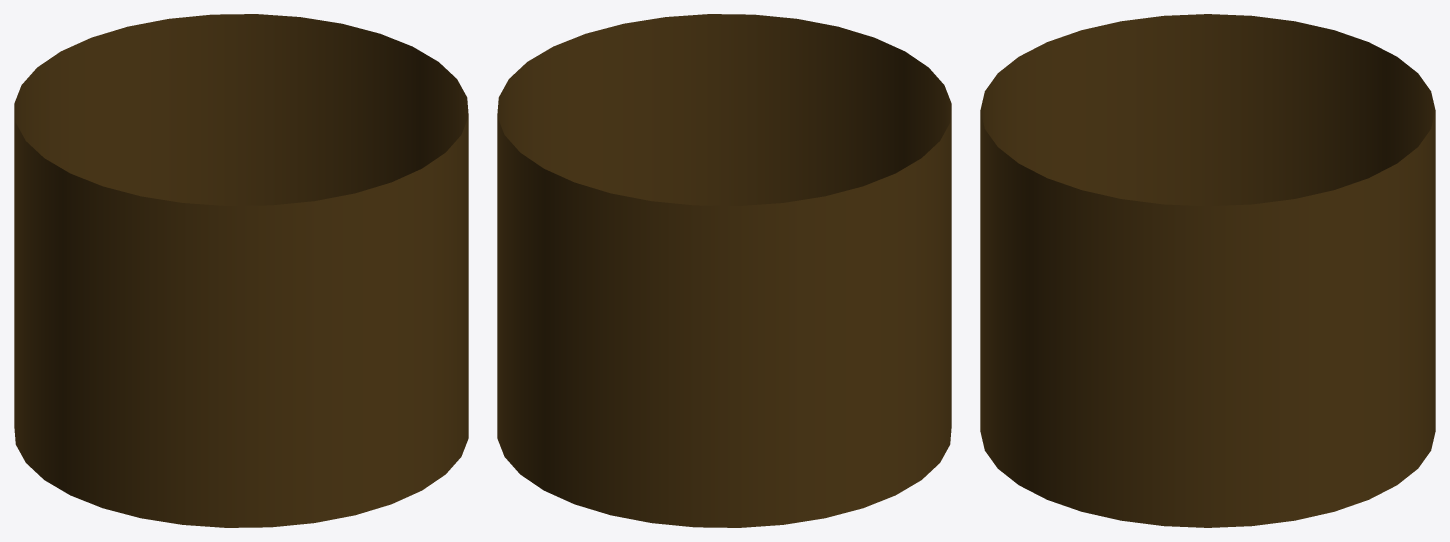
The model's file is Wall.fbx.
The picture shows the model from 3 angles, left to right: view 1: azimuth 30°, elevation 25°; view 2: azimuth 150°, elevation 25°; view 3: azimuth 270°, elevation 25°; orthographic projection.
Parts seen in each view (by area): view 1: Wall; view 2: Wall; view 3: Wall.
Boxes of the visible parts, x1,y1,x2,y2 form: Wall: [14, 14, 468, 527]; Wall: [497, 14, 951, 527]; Wall: [980, 14, 1435, 527].
Size of the model in its own units: 10 by 10 by 7.8.
